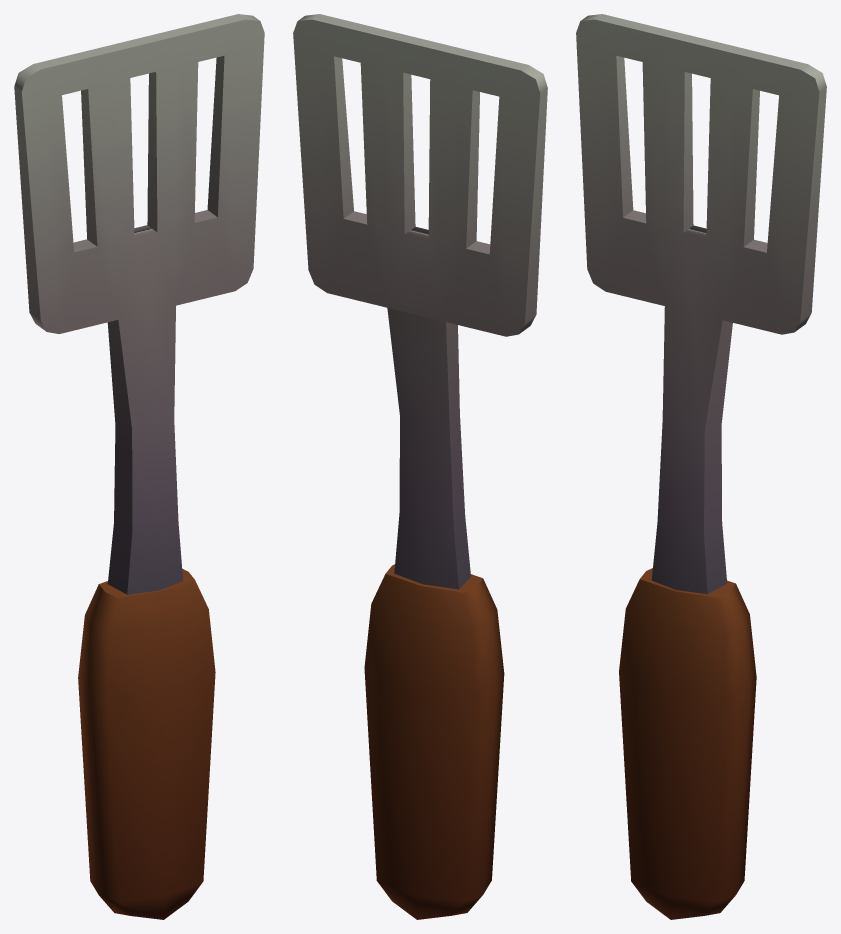
Rendered from Spatula.glb.
The picture shows the model from 3 angles, left to right: view 1: azimuth 30°, elevation 25°; view 2: azimuth 150°, elevation 25°; view 3: azimuth 330°, elevation 25°; orthographic projection.
Visible parts, largest first — view 1: Spatula; view 2: Spatula; view 3: Spatula.
Boxes of the visible parts, x1,y1,x2,y2 form: Spatula: (14,14,264,919); Spatula: (293,14,547,919); Spatula: (576,14,826,919).
Size of the model in its own units: 0.2406 by 0.8175 by 0.0674.
1 material, 1 textured.
